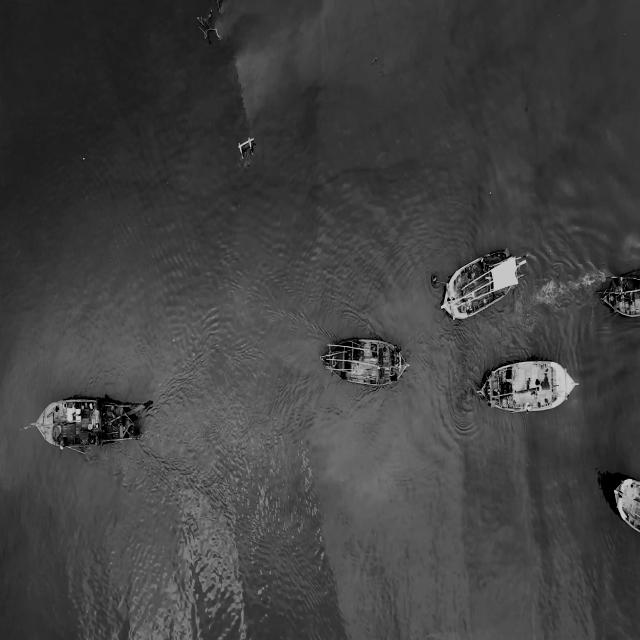ship: (440, 240, 525, 321), (36, 391, 147, 452), (480, 354, 577, 414), (327, 326, 409, 391), (606, 470, 640, 560), (608, 259, 640, 319)
